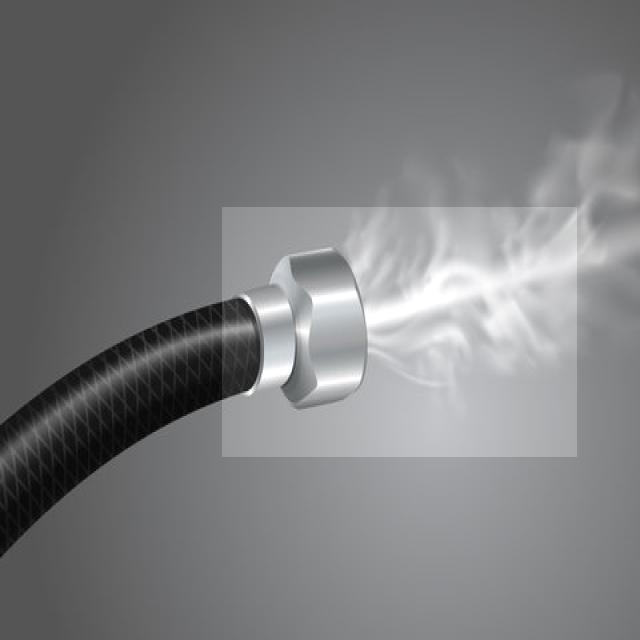corrosion: (295, 243, 460, 413)
